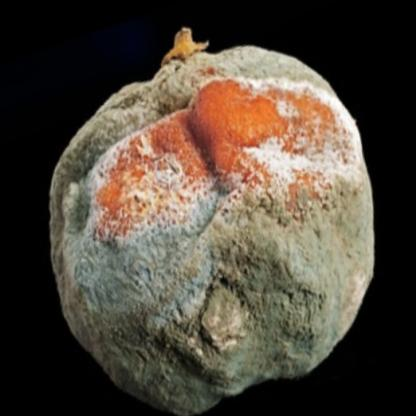rotten: (53, 45, 375, 416)
